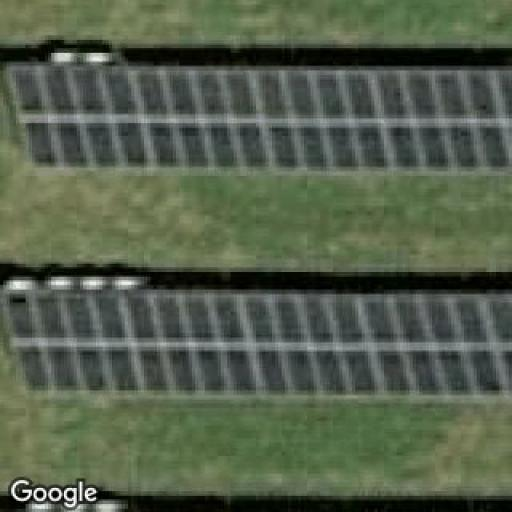solar-panel: (0, 291, 512, 395), (8, 67, 512, 171)
